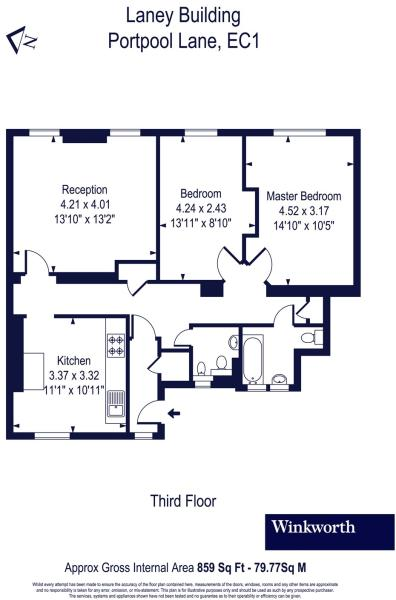GrossArea: (54, 556, 316, 577)
